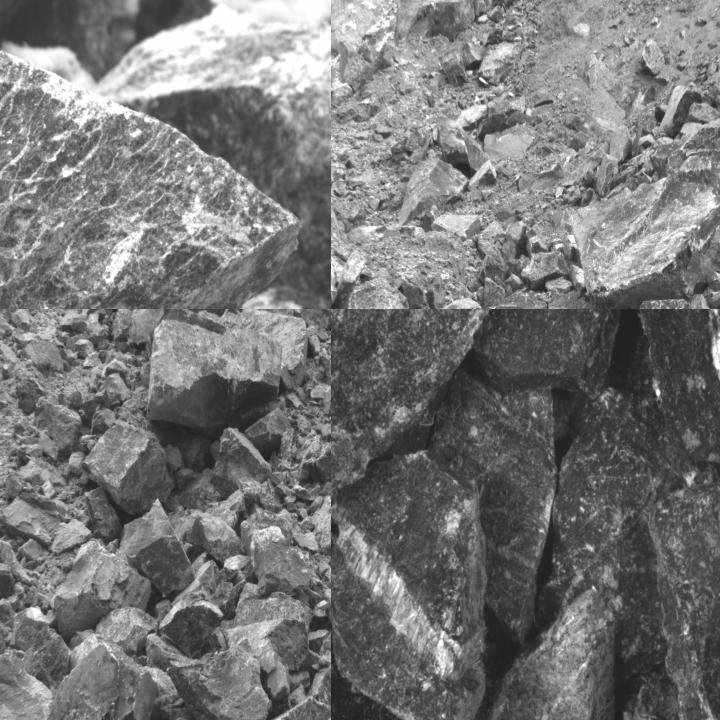stone: (0, 46, 295, 308), (94, 1, 330, 308), (331, 309, 548, 523), (551, 389, 719, 664), (331, 451, 490, 719), (434, 370, 566, 640), (642, 444, 719, 719), (474, 587, 624, 719), (573, 183, 719, 308), (153, 309, 288, 433), (625, 309, 719, 468), (474, 309, 629, 398), (56, 539, 153, 636), (84, 421, 174, 515), (168, 638, 272, 719), (57, 637, 157, 719), (119, 495, 196, 599), (222, 582, 314, 668), (240, 510, 311, 596), (240, 309, 308, 384), (398, 159, 468, 230), (212, 428, 274, 498), (158, 600, 226, 658), (435, 114, 490, 174), (678, 157, 719, 233), (22, 627, 69, 690), (34, 396, 81, 457), (97, 608, 157, 655), (188, 515, 239, 562), (331, 278, 410, 308), (658, 83, 702, 133), (480, 40, 524, 86), (256, 642, 289, 703), (521, 250, 570, 290), (84, 484, 120, 536), (122, 309, 169, 346), (683, 114, 719, 162), (0, 537, 36, 580), (398, 120, 431, 164), (261, 698, 330, 719), (481, 289, 556, 308), (52, 517, 92, 552), (250, 412, 293, 444), (310, 493, 330, 557), (340, 246, 368, 290), (95, 374, 130, 407), (440, 47, 468, 88), (481, 244, 507, 284), (608, 124, 633, 165), (547, 292, 611, 308), (640, 37, 666, 76), (312, 662, 330, 715), (468, 161, 498, 190), (90, 405, 116, 434), (482, 278, 507, 308), (0, 559, 18, 599), (58, 309, 89, 332), (293, 530, 320, 554), (164, 443, 185, 472), (461, 42, 482, 70), (21, 541, 45, 564), (74, 339, 97, 358), (104, 357, 128, 375), (67, 450, 83, 475), (496, 0, 517, 10)
